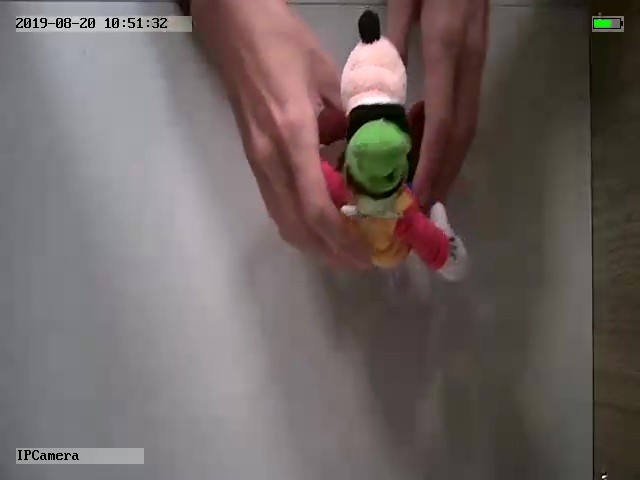goofy: (318, 11, 468, 280)
